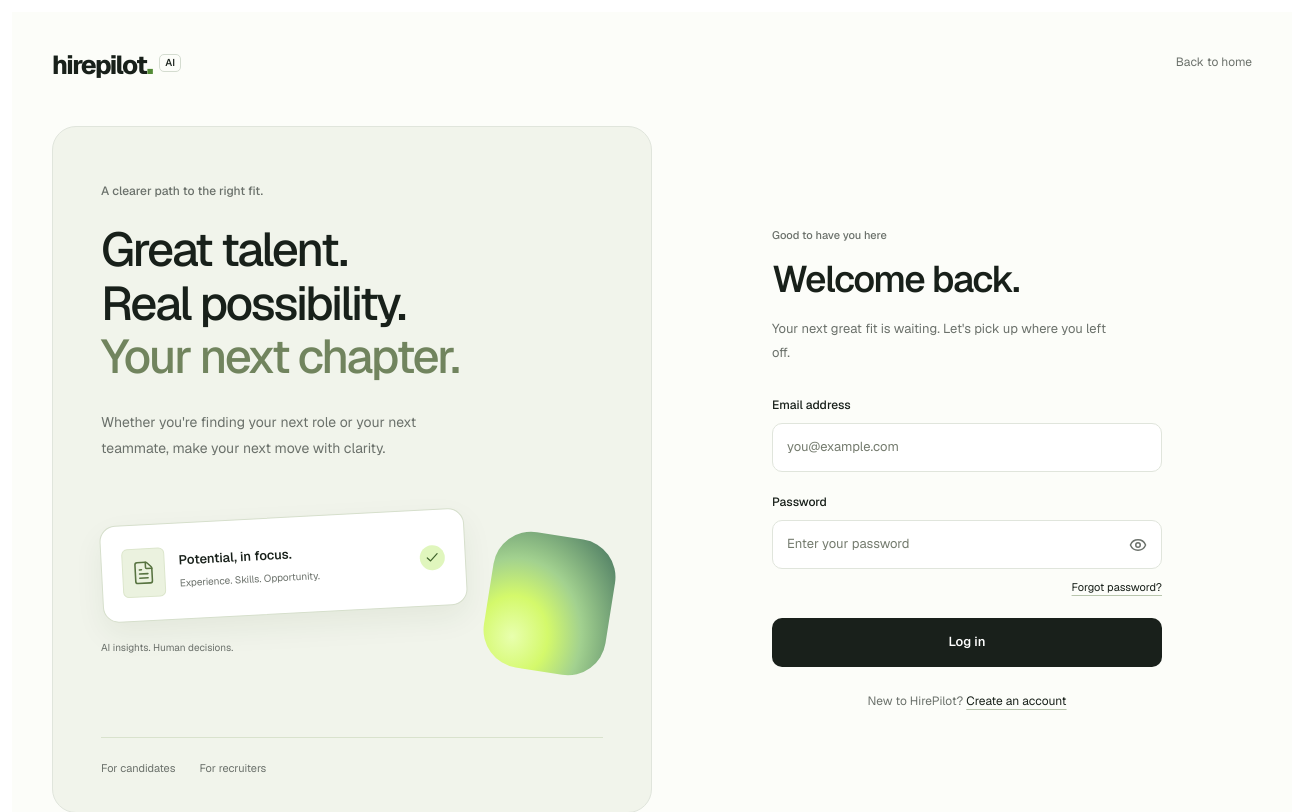
Test: real forms, provider, API client, and route guards › preserves an intended protected page after login
The image size is (1292, 812).
Check: the heading "Welcome back." is shown, box [772,255,1019,303]
In the field labelled "Email address": [967, 448] box [772,423,1162,472], type "alex@example.com"
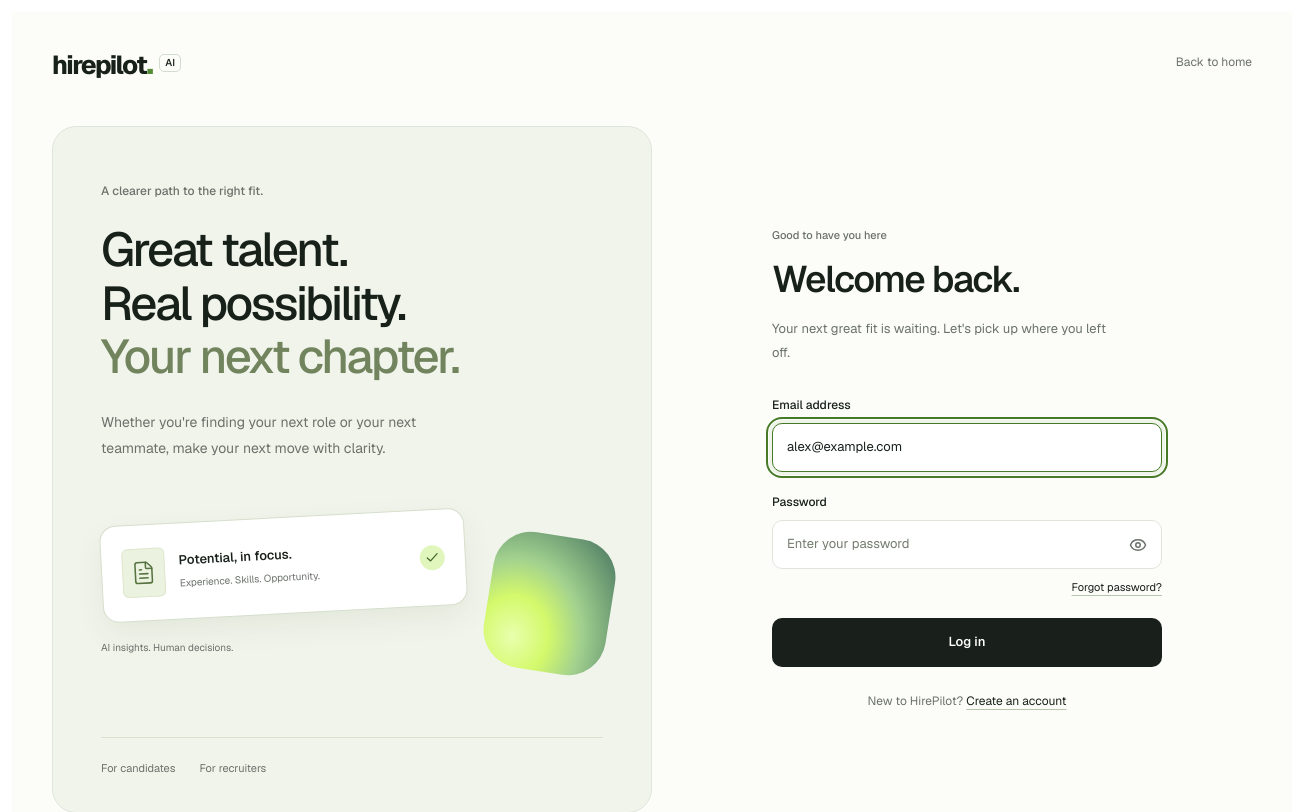
In the password field labelled "Password": [967, 545] box [772,520,1162,569], type "password123"
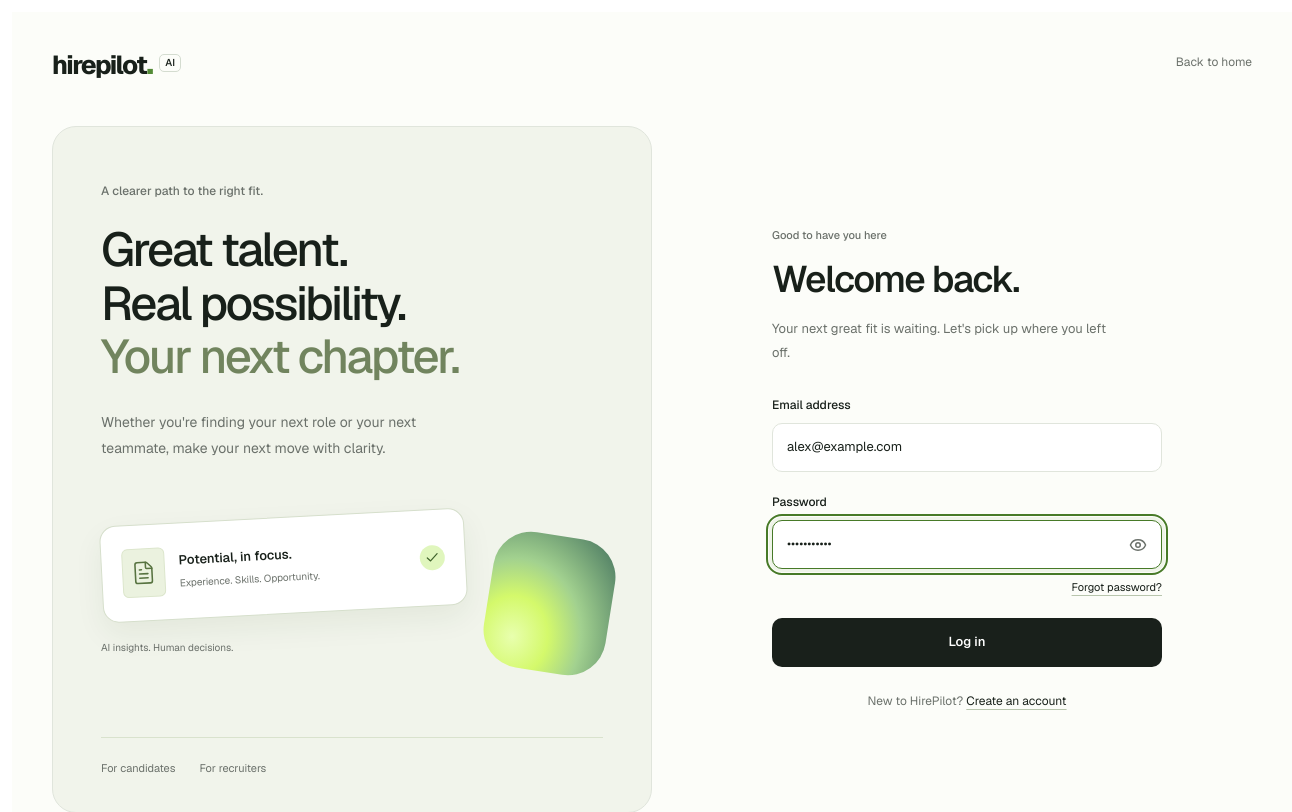
Click the button "Log in": [967, 642] box [772,618,1162,667]
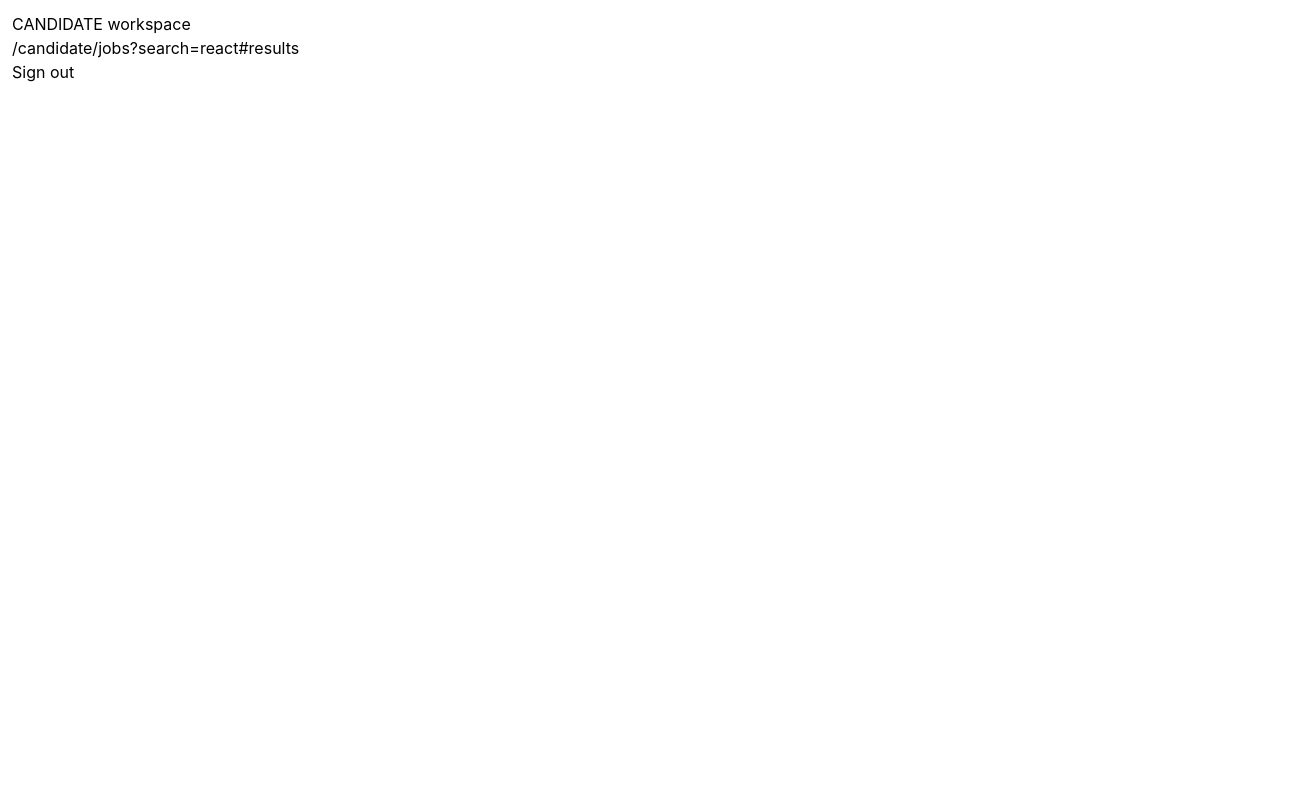
Check: the text with test id "location" reads "/candidate/jobs?search=react#results", box [12,38,299,58]
